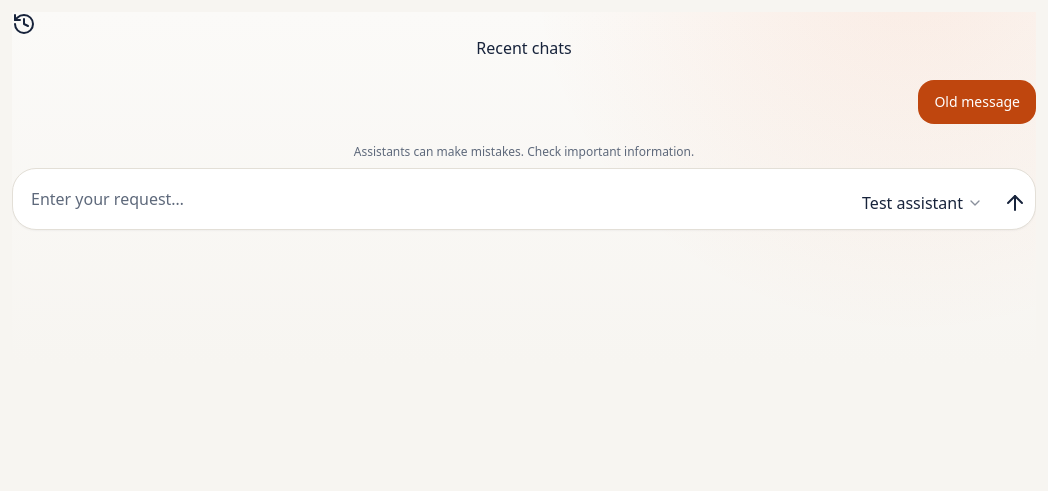
Test case: PlaygroundPage › drops the old session when selecting another assistant
Expected: the text "Old message" is shown, [934, 92, 1020, 112]
Step 1. Press ArrowDown in the dropdown named "Choose assistant", box [850, 185, 995, 221]
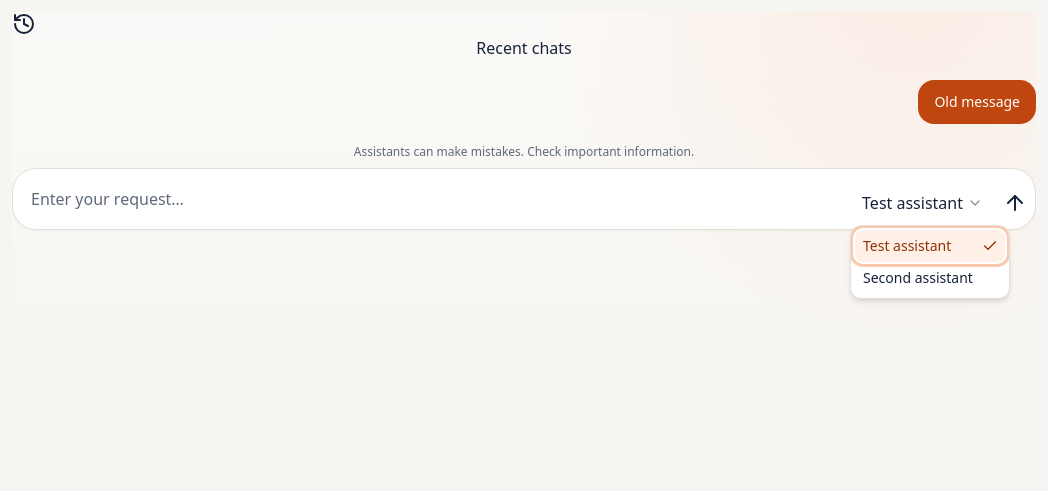
Step 2. Click the option "Second assistant" → (918, 278), box [863, 268, 973, 287]
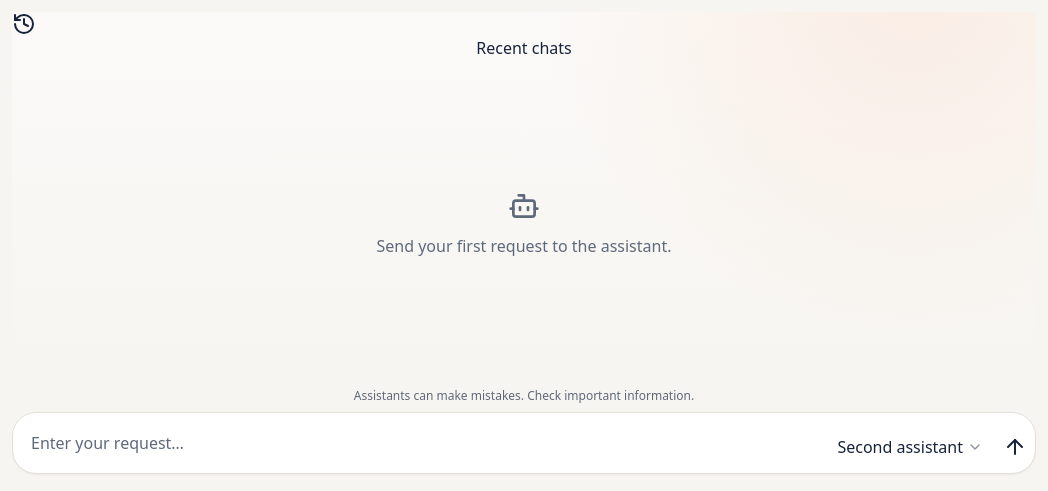
Now the text "Old message" is gone
Step 3. Type "Start again" into the text box named "Message" → (419, 443), box [21, 421, 817, 465]
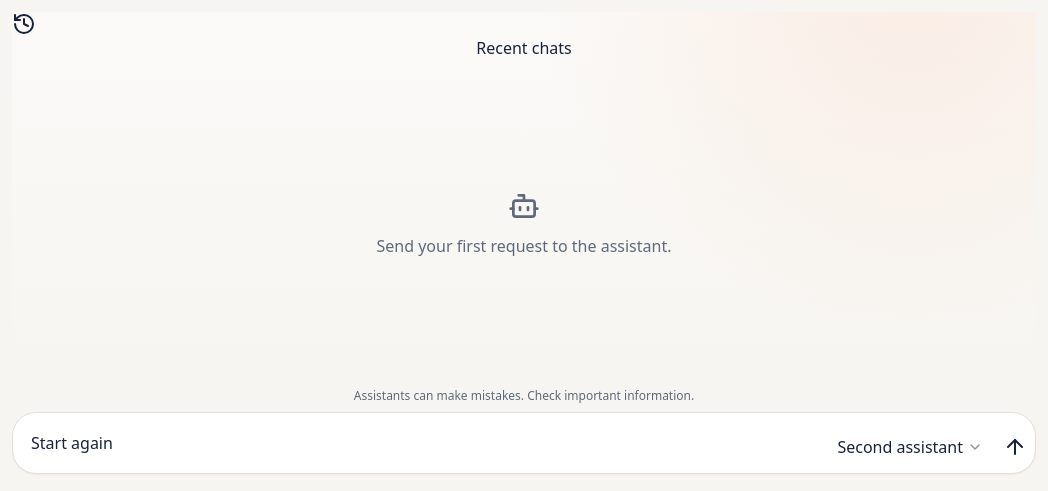
Step 4. Click the button named "Send" → (1015, 447), box [1003, 435, 1027, 459]
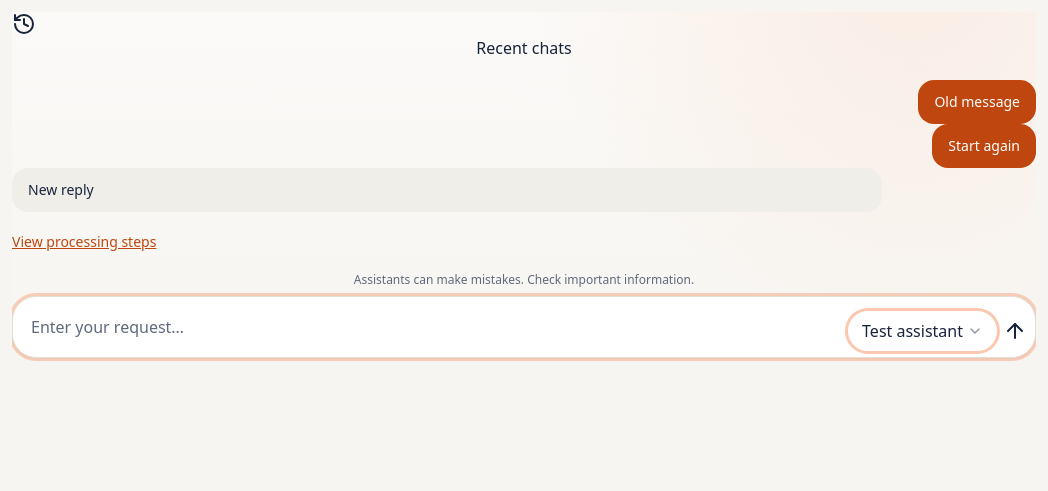
Now the text "New reply" is shown, box [28, 180, 94, 199]
